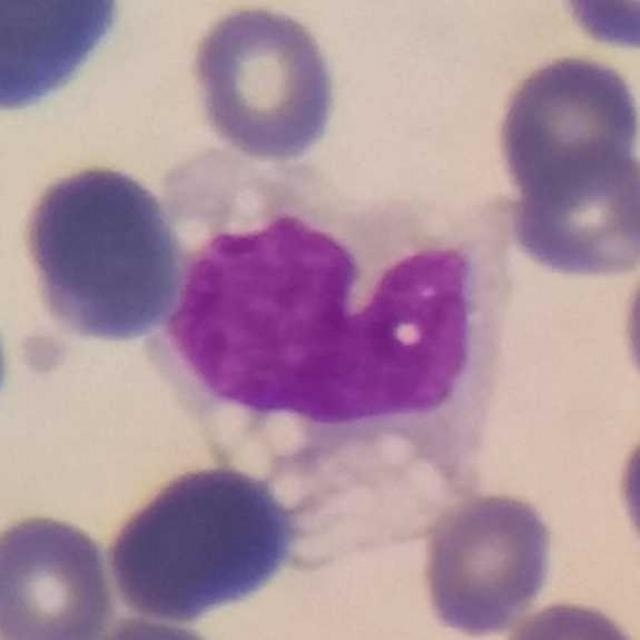Monocyte: (152, 147, 513, 562)
Platelets: (15, 329, 76, 381)
RBC: (98, 455, 307, 631), (12, 155, 190, 355), (184, 1, 344, 166), (488, 48, 640, 200), (415, 487, 560, 639), (502, 138, 640, 284), (0, 0, 136, 126), (0, 506, 118, 640), (492, 595, 640, 640), (550, 0, 640, 56), (610, 413, 640, 570), (615, 240, 640, 408)
